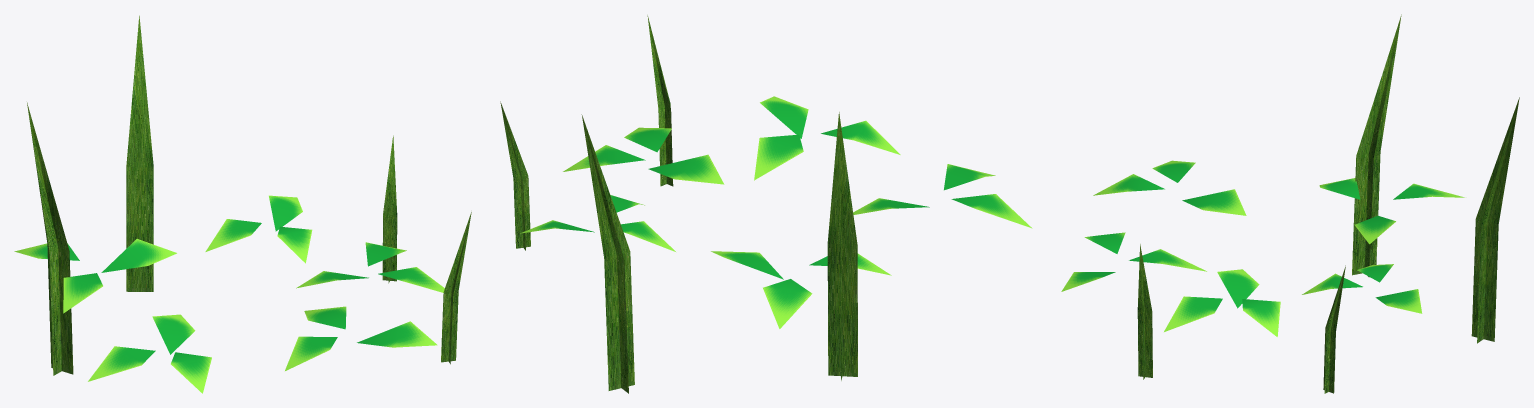
Rendered from Grass_0_3.FBX.
3 views of the same model, side by side, from view 1: azimuth 30°, elevation 25°; view 2: azimuth 150°, elevation 25°; view 3: azimuth 270°, elevation 25° (orthographic). The views are drawn at different scales.
Parts seen in each view (by area): view 1: NatureWideGrass, NatureGrass; view 2: NatureGrass, NatureWideGrass; view 3: NatureGrass, NatureWideGrass.
Boxes of the visible parts, x1,y1,x2,y2 form: NatureWideGrass: (14,195,444,393); NatureGrass: (27,15,471,375); NatureGrass: (500,15,857,393); NatureWideGrass: (520,96,1032,328); NatureGrass: (1137,14,1519,393); NatureWideGrass: (1061,160,1464,336).
Bounding box in the file's own units: 0.9036 × 0.5671 × 0.9377.
